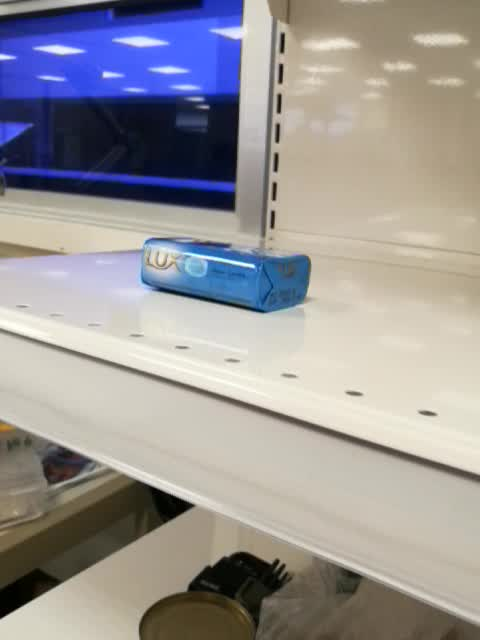soap: (139, 235, 314, 316)
